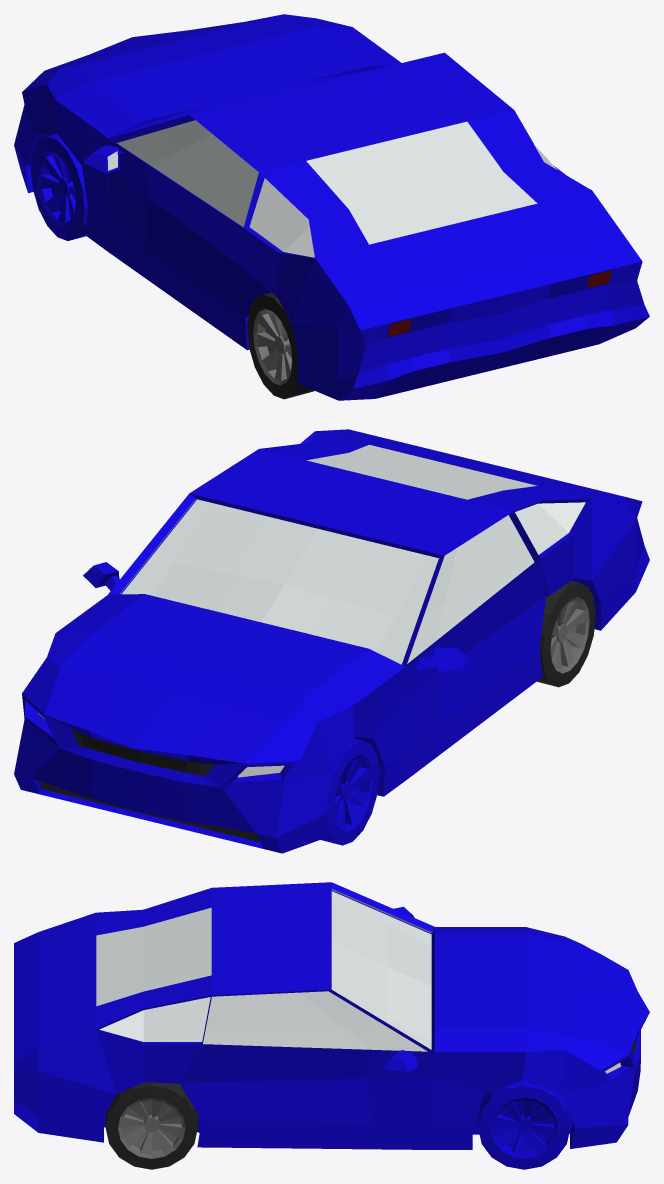
File: Car.fbx
3 views of the same model, one above another, from view 1: azimuth 30°, elevation 25°; view 2: azimuth 150°, elevation 25°; view 3: azimuth 270°, elevation 25° (orthographic). The views are drawn at different scales.
Visible parts, largest first — view 1: Cube; view 2: Cube; view 3: Cube.
Boxes of the visible parts, <box> form: Cube: <box>14,14,649,400</box>; Cube: <box>14,429,649,853</box>; Cube: <box>14,882,649,1169</box>.
Bounding box in the file's own units: 264 × 133 × 445.
